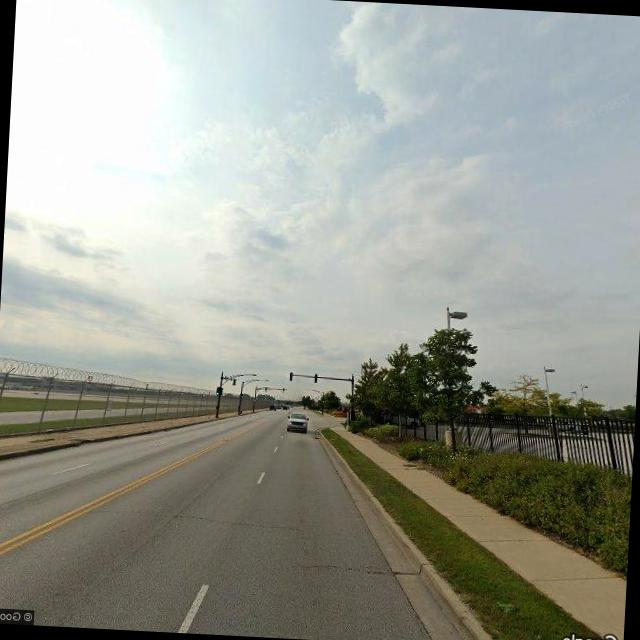crack: (174, 508, 304, 534), (299, 556, 402, 580)
